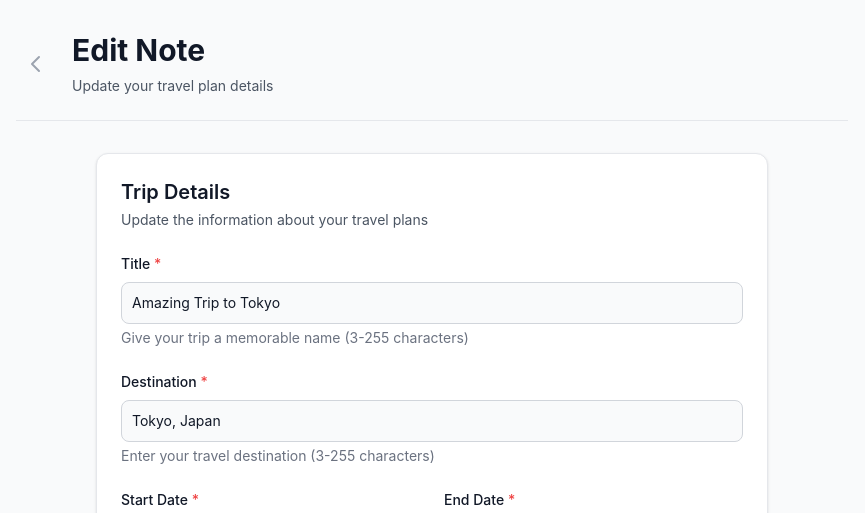
NoteEditView - Core Functionality › Form Submission and Updates › should handle API errors during update with specific error message
This screenshot has width=865, height=513.
Fill and submit form
Step 1. Replace the text in the field labelled "Title *" with "Updated Title" → (432, 303), box [121,282,743,324]
(page scrolled)
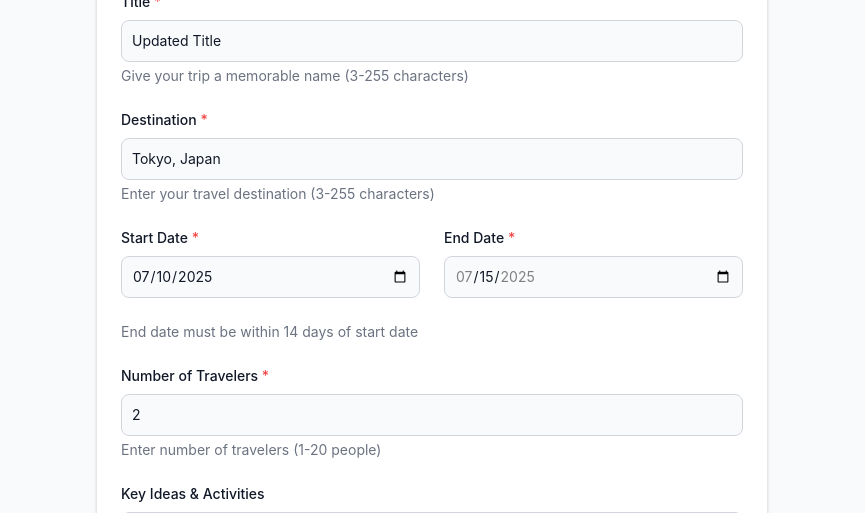
Step 2. Submit the form
(page scrolled)
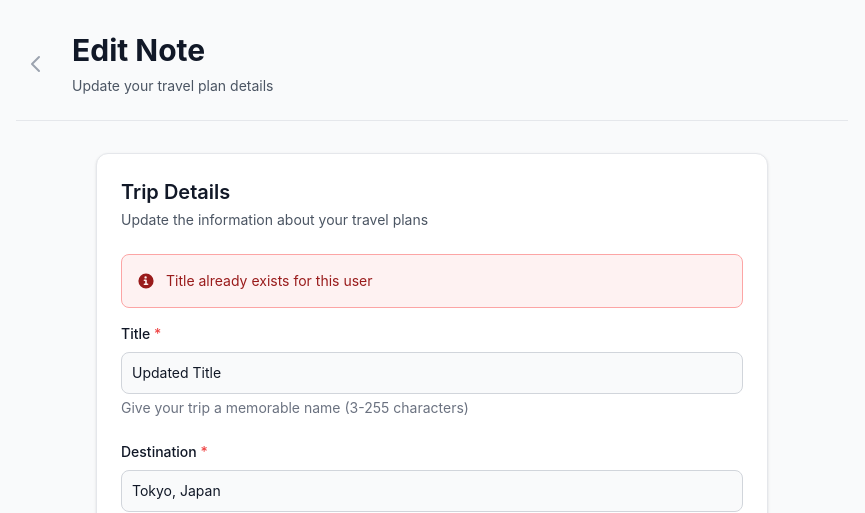
Expected: the message "Title already exists for this user" is shown, [121,254,743,308]
Expected: the text "Title already exists for this user" is shown, [166,271,372,291]
